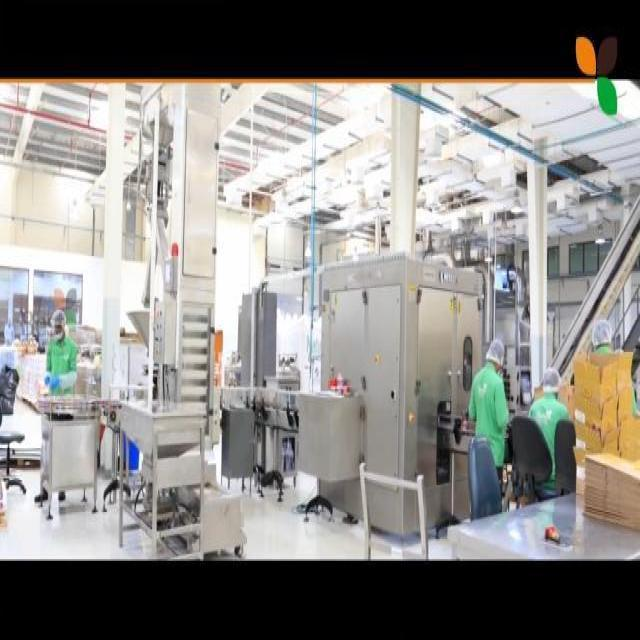gloved_hand: (49, 372, 64, 397), (42, 367, 54, 396)
